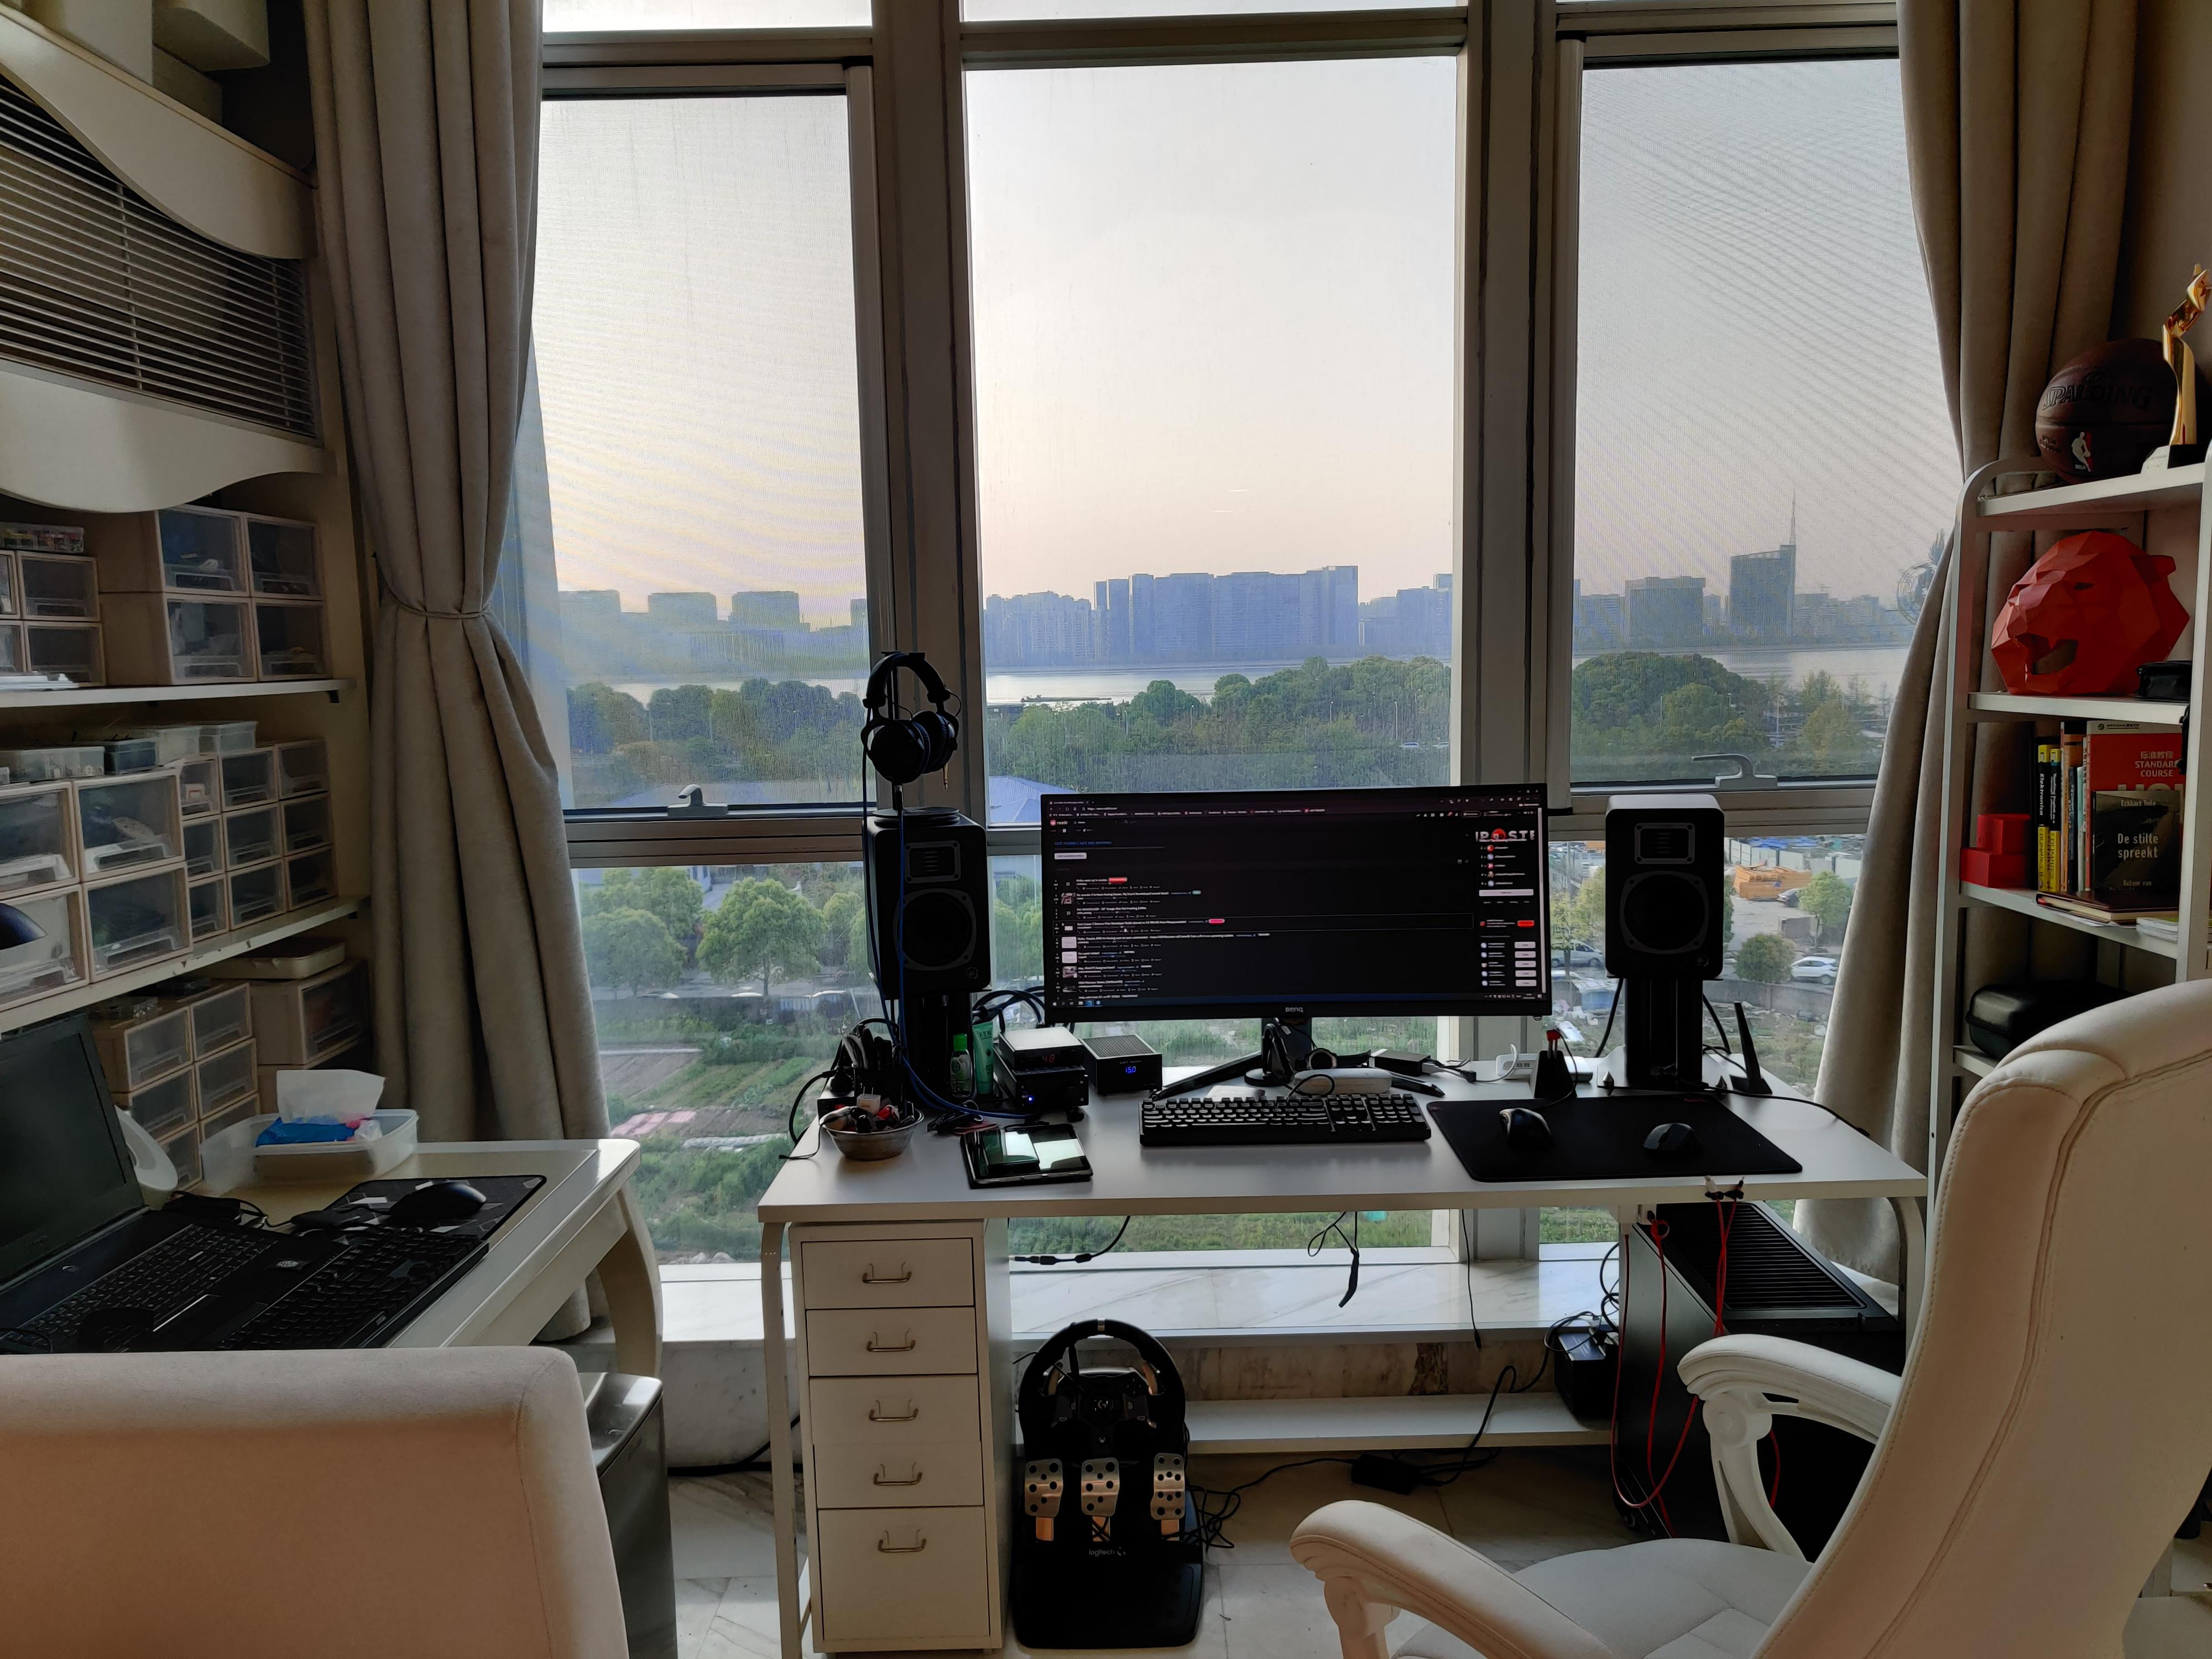Book: (2026, 720, 2182, 920)
Cellphone: (981, 1129, 1040, 1169)
Chair (Generic): (1296, 972, 2212, 1659)
Decoration (Generic): (1989, 528, 2189, 694), (2036, 336, 2212, 491), (2139, 263, 2212, 476)
Decoration (Miniature): (1292, 1049, 1371, 1072)
Desk (Generic): (759, 1060, 1926, 1659)
Desktop (Windows): (1601, 1204, 1895, 1561)
Drawing Pad: (296, 1176, 547, 1239)
External Speakers (Generic): (860, 807, 991, 992), (1604, 795, 1723, 978)
Headphones: (862, 650, 960, 781)
Keyboard (Generic): (211, 1227, 489, 1349), (1139, 1094, 1432, 1147)
Laptop (Generic): (0, 1016, 350, 1354)
Monitor (Landscape): (1042, 782, 1550, 1023)
Mouse (Ergonomic): (1500, 1107, 1552, 1145), (1642, 1124, 1705, 1154)
Mouse (Generic): (390, 1183, 486, 1220)
Storage Drawer: (786, 1220, 1008, 1656)
Tablet (Generic): (963, 1124, 1094, 1185)
